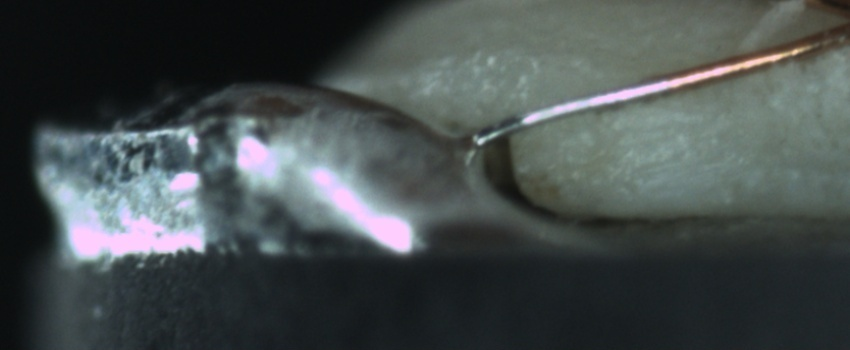TS: (467, 72, 689, 148)
